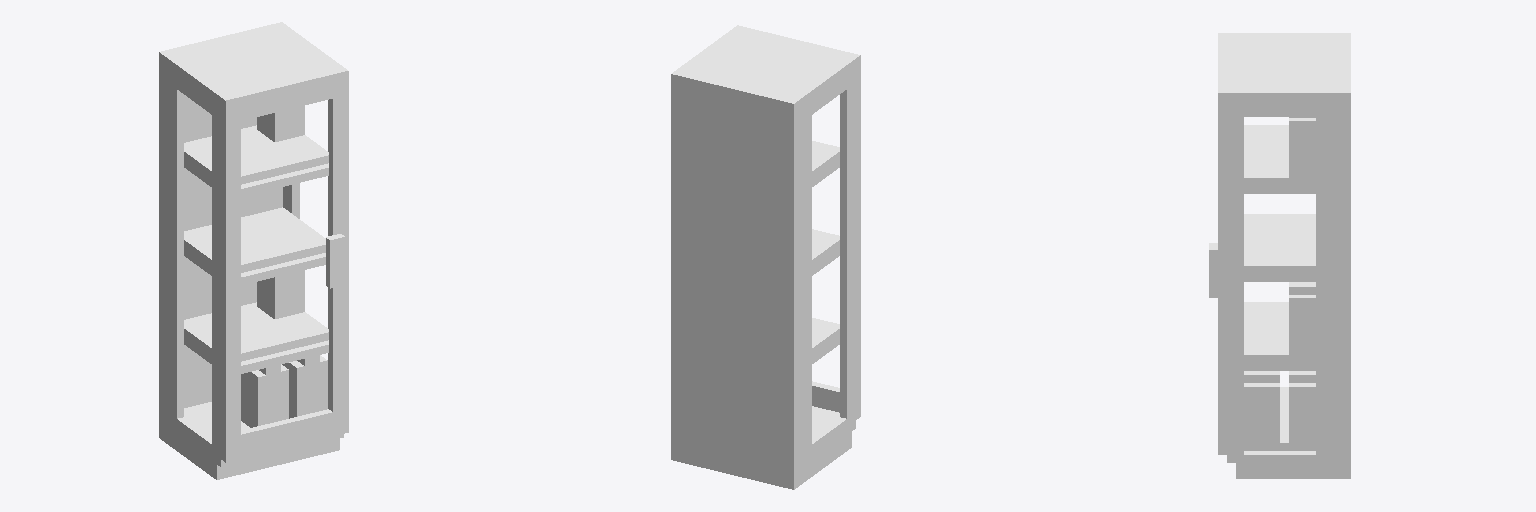
File: fullMilkShelfAnimAttempt3.obj
3 renders of one model, left to right at view 1: azimuth 30°, elevation 25°; view 2: azimuth 150°, elevation 25°; view 3: azimuth 270°, elevation 25°, orthographic.
Parts seen in each view (by area): view 1: object 1; view 2: object 1; view 3: object 1.
Part boxes in pixels (left/top/right/bottom): object 1: left=159, top=22, right=348, bottom=479; object 1: left=671, top=25, right=860, bottom=489; object 1: left=1209, top=33, right=1350, bottom=478.
Size of the model in its own units: 1.6 by 4.8 by 1.6.